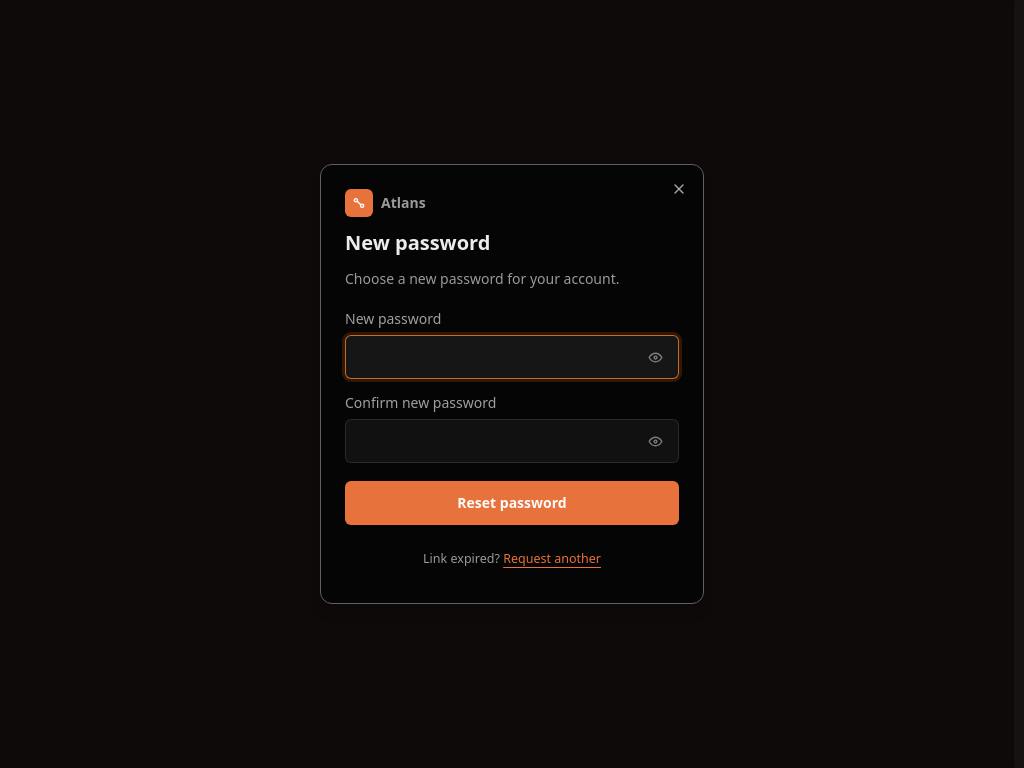
Test case: entrada em en › redefinir: o token recusado pelo servidor sai no idioma
The width and height of the screenshot is (1024, 768).
In the password field labelled "New password": (512, 357) [345,335,679,379], type "Senha-nova-1"
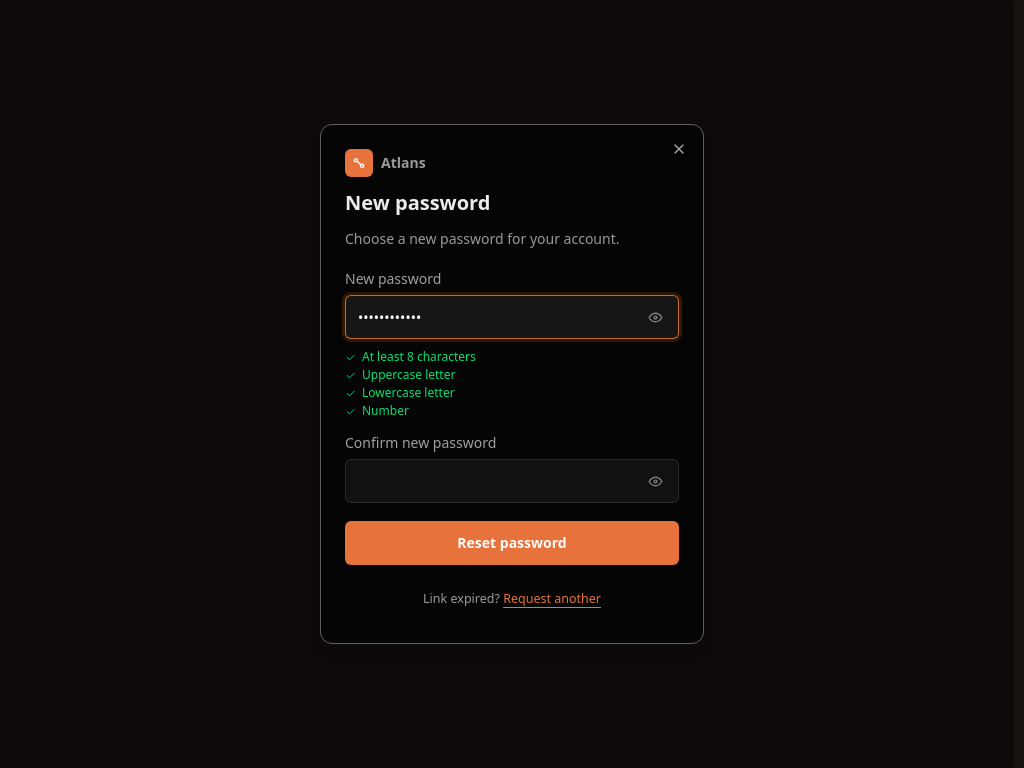
In the password field labelled "Confirm new password": (512, 481) [345,459,679,503], type "Senha-nova-1"
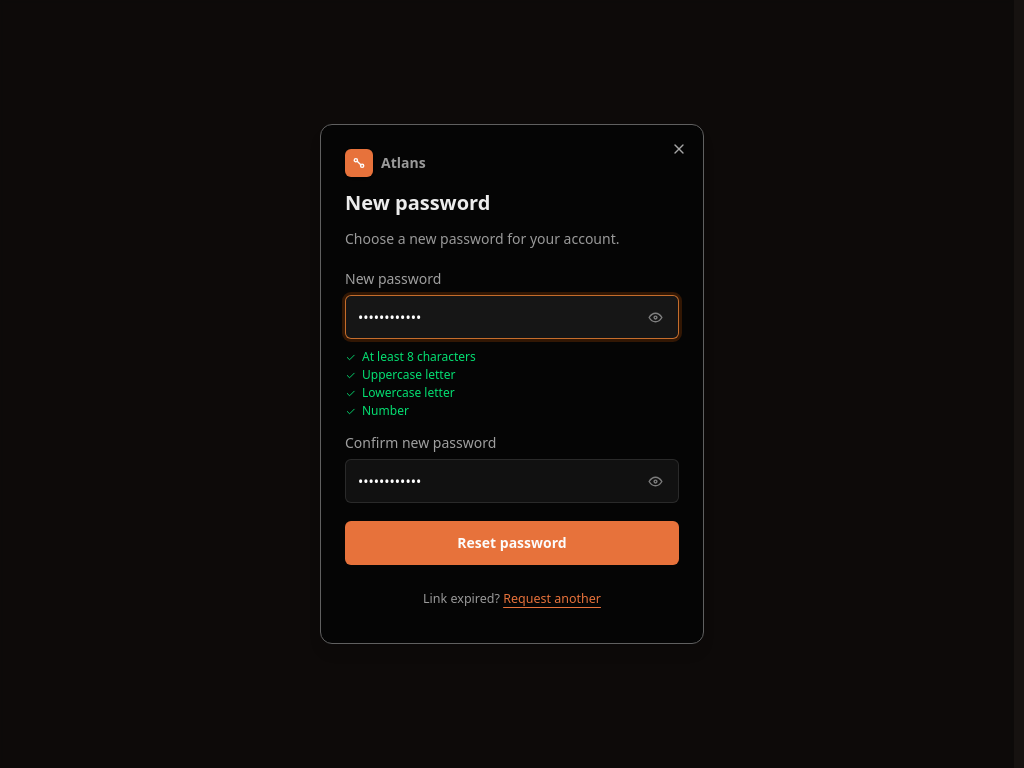
Submit the form named "Confirm new password", box [345,269,679,619]
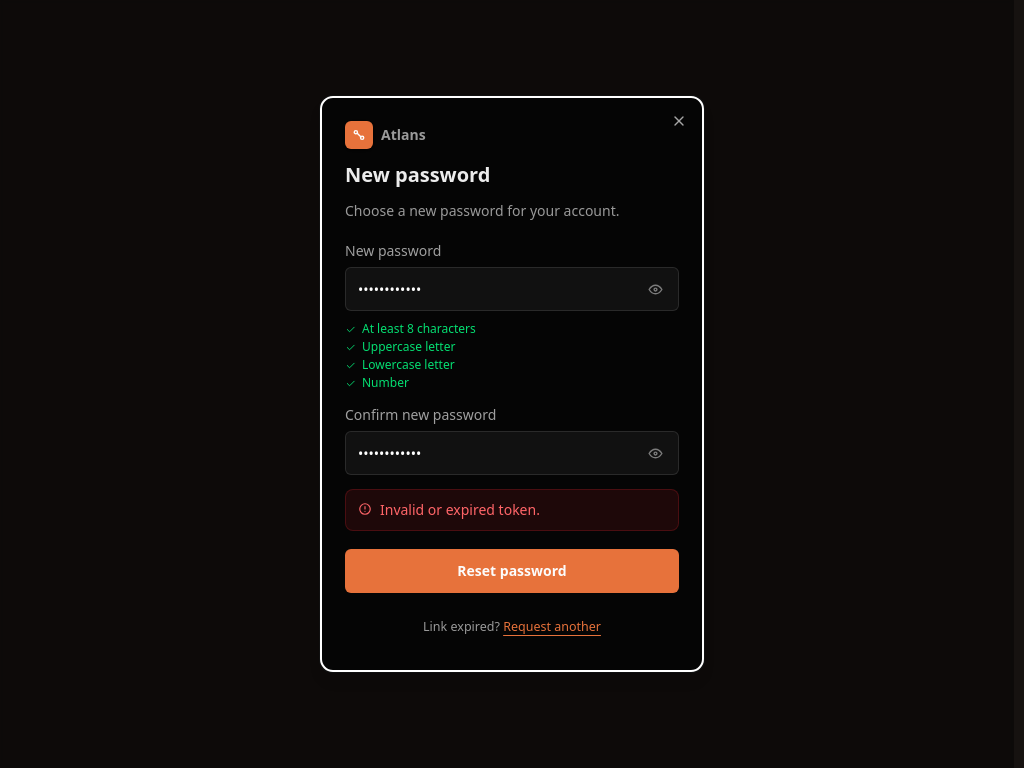
Expected: the message reads "Invalid or expired token.", [380,500,540,519]
Submit the form named "Confirm new password", box [345,241,679,647]
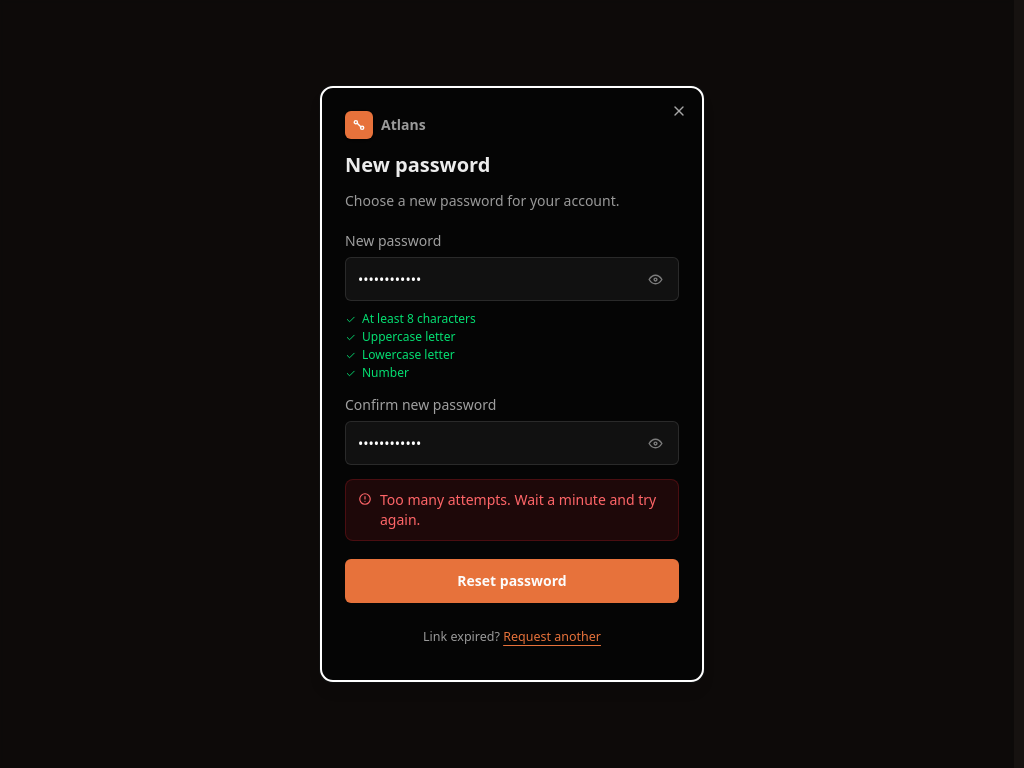
Expected: the message reads "Too many attempts. Wait a minute and try again.", [380,490,656,529]
